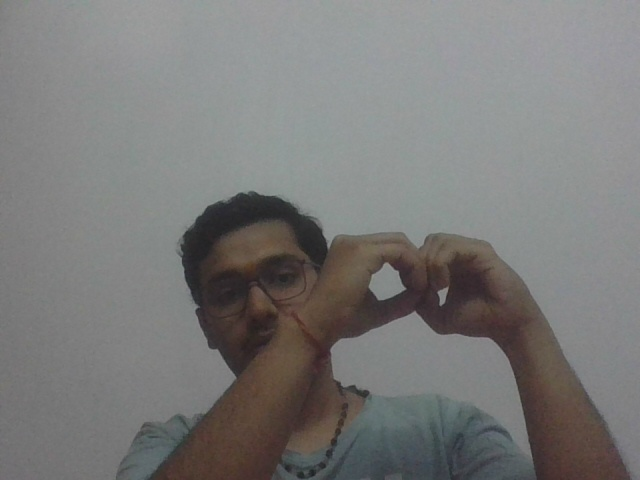B: (312, 230, 531, 336)
